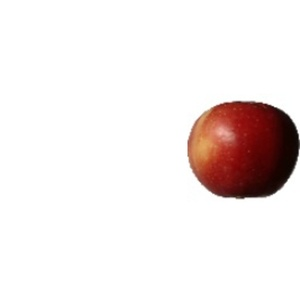maçã braeburn: (185, 100, 300, 200)
